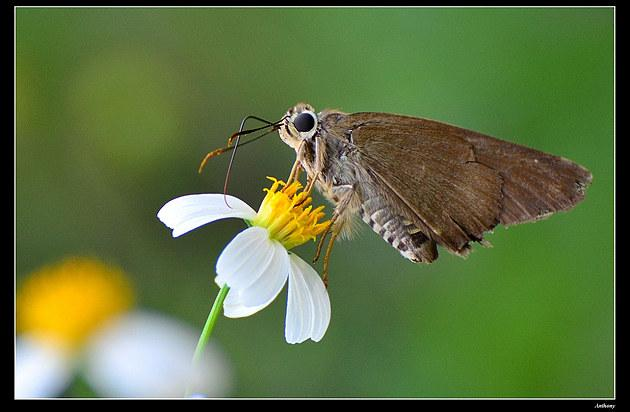Hesperiidae: (195, 98, 595, 273)
